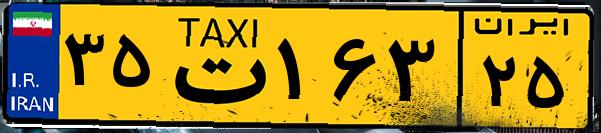1: (270, 28, 330, 110)
2: (475, 38, 525, 113)
3: (385, 28, 445, 110), (57, 26, 110, 100)
5: (525, 38, 570, 115), (110, 28, 158, 98)
6: (330, 28, 385, 110)
ت: (158, 12, 270, 120)
